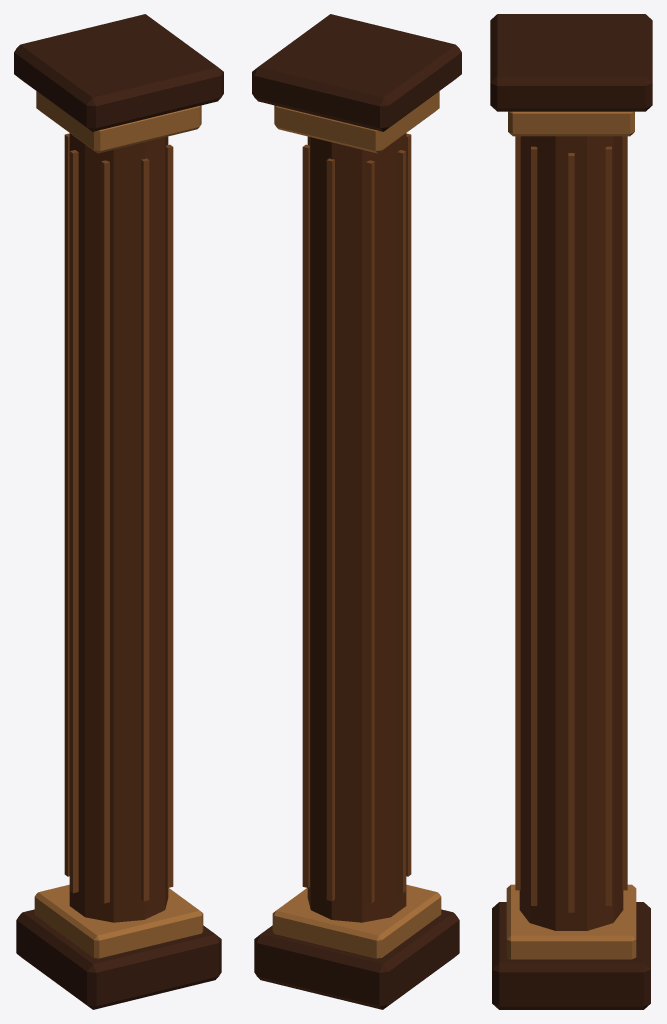
File: theatre-column.glb
3 renders of one model, left to right at view 1: azimuth 30°, elevation 25°; view 2: azimuth 150°, elevation 25°; view 3: azimuth 270°, elevation 25°, orthographic. The views are drawn at different scales.
Visible parts, largest first — view 1: TheatreColumnMesh; view 2: TheatreColumnMesh; view 3: TheatreColumnMesh.
Boxes of the visible parts, x1=… form: TheatreColumnMesh: x1=14, y1=14, x2=223, y2=1009; TheatreColumnMesh: x1=252, y1=14, x2=461, y2=1009; TheatreColumnMesh: x1=490, y1=14, x2=652, y2=1009.
Size of what is drawn, in the model's own units: 1.38 by 8.77 by 1.38.
1 material, 1 textured.
